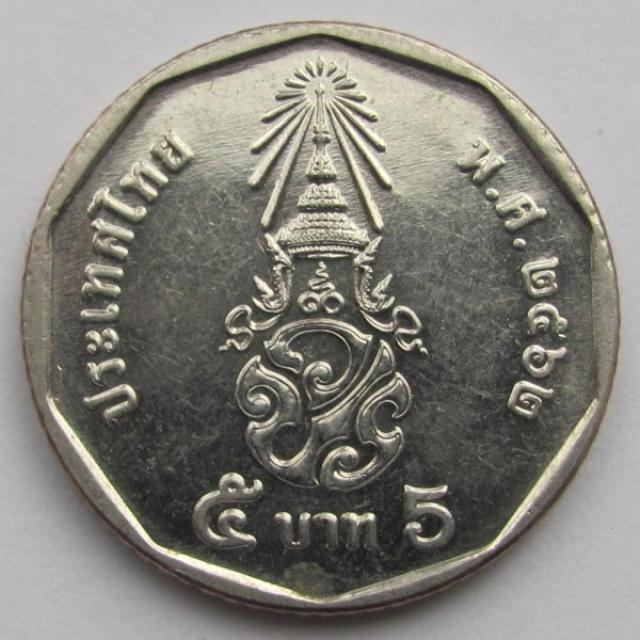5 Bath: (18, 16, 626, 628)
